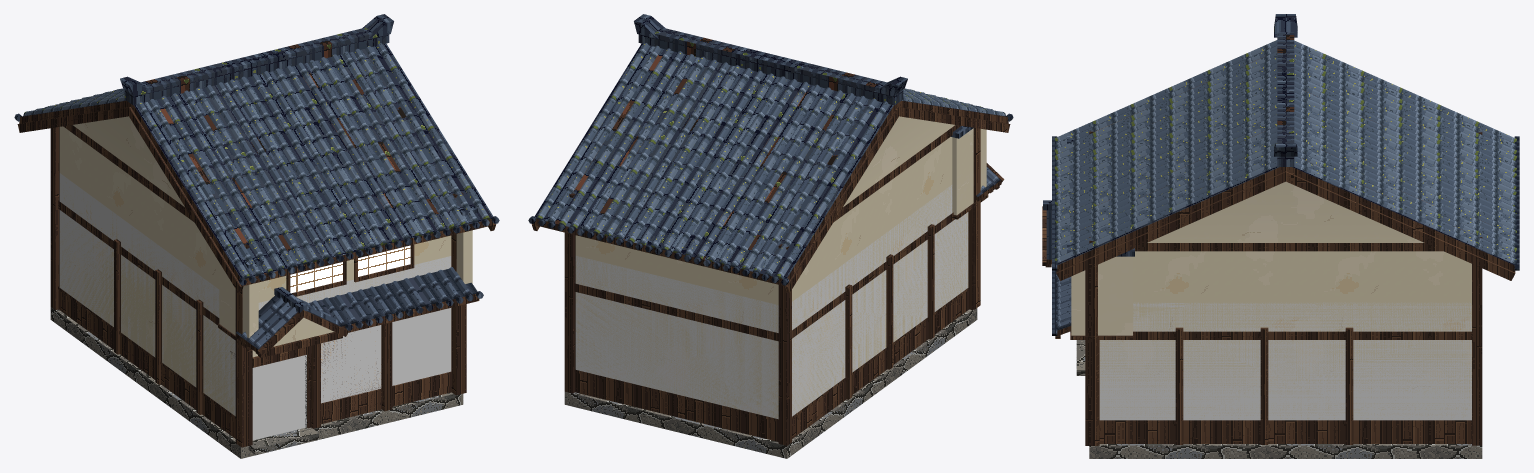
File: JP_Row_House_C_F.glb
The picture shows the model from 3 angles, left to right: view 1: azimuth 30°, elevation 25°; view 2: azimuth 150°, elevation 25°; view 3: azimuth 270°, elevation 25°; orthographic projection. The views are drawn at different scales.
Visible parts, largest first — view 1: JP_Row_House_C_F, COL_JP_Row_House_C_F; view 2: JP_Row_House_C_F, COL_JP_Row_House_C_F; view 3: JP_Row_House_C_F, COL_JP_Row_House_C_F.
Part boxes in pixels (x1,y1,x2,y2): JP_Row_House_C_F: (14,14,499,458); COL_JP_Row_House_C_F: (59,173,451,440); JP_Row_House_C_F: (528,14,1013,458); COL_JP_Row_House_C_F: (575,185,968,418); JP_Row_House_C_F: (1042,14,1519,458); COL_JP_Row_House_C_F: (1099,302,1471,420).
Size of the model in its own units: 7.42 by 8.36 by 11.23.
12 materials, 12 textured.
